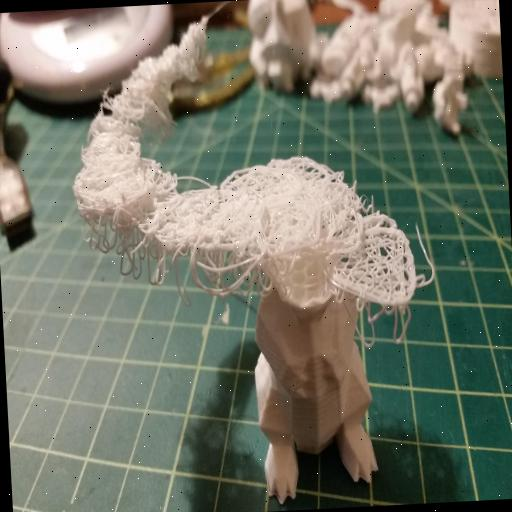spaghetti: (70, 128, 434, 306), (80, 2, 223, 184)
